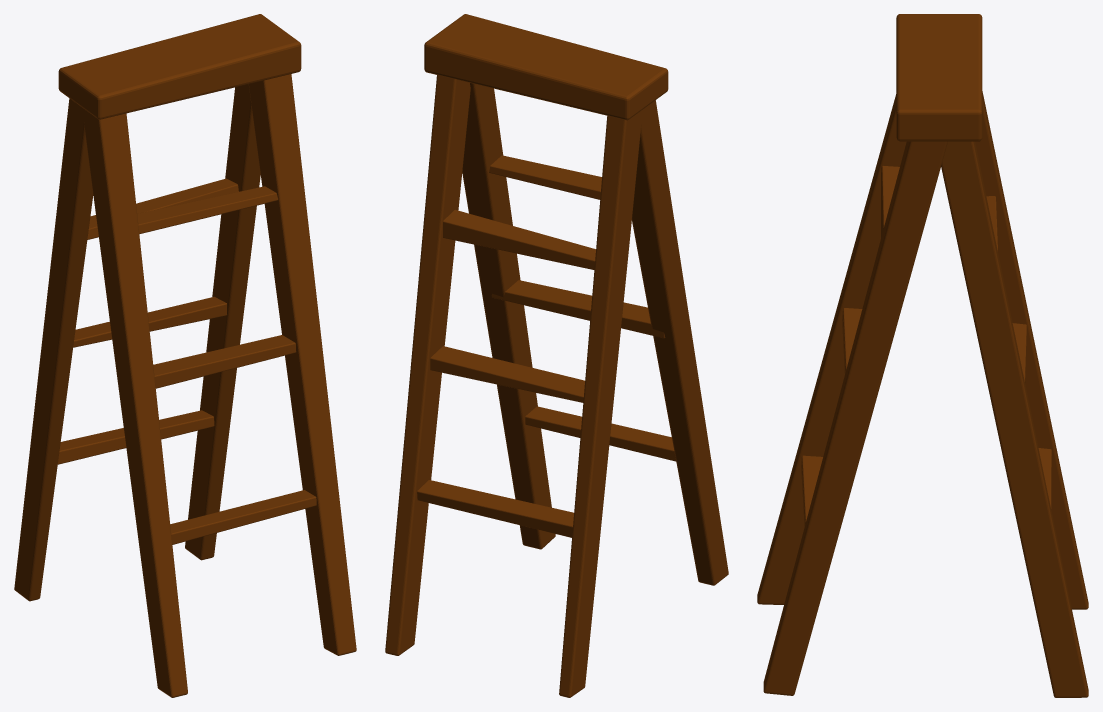
The model's file is tizi.fbx.
The picture shows the model from 3 angles, left to right: view 1: azimuth 30°, elevation 25°; view 2: azimuth 150°, elevation 25°; view 3: azimuth 270°, elevation 25°; orthographic projection. The views are drawn at different scales.
Parts seen in each view (by area): view 1: transform209; view 2: transform209; view 3: transform209.
Boxes of the visible parts, <box> form: transform209: <box>14,14,356,697</box>; transform209: <box>385,14,728,697</box>; transform209: <box>757,14,1088,697</box>.
Bounding box in the file's own units: 68.61 × 183 × 92.21.
